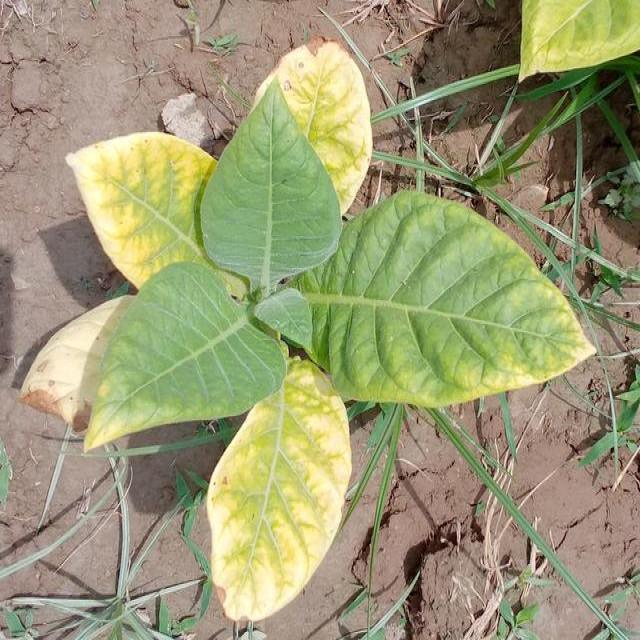crop: (29, 71, 577, 608), (505, 0, 630, 88)
